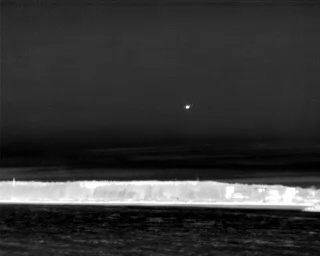HELICOPTER: (183, 102, 193, 113)
